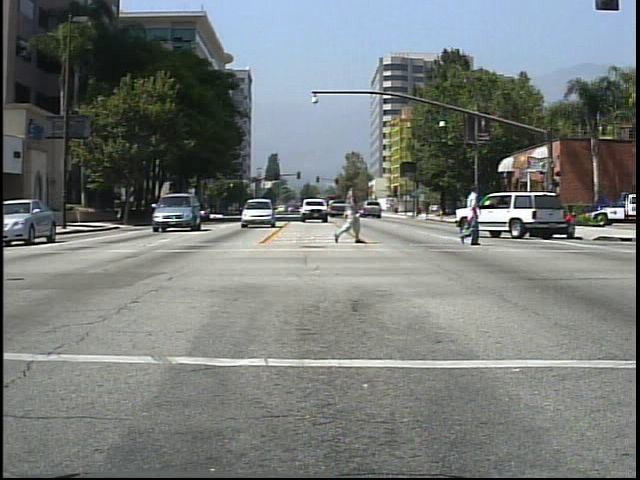person: (454, 178, 491, 254), (329, 176, 366, 250)
